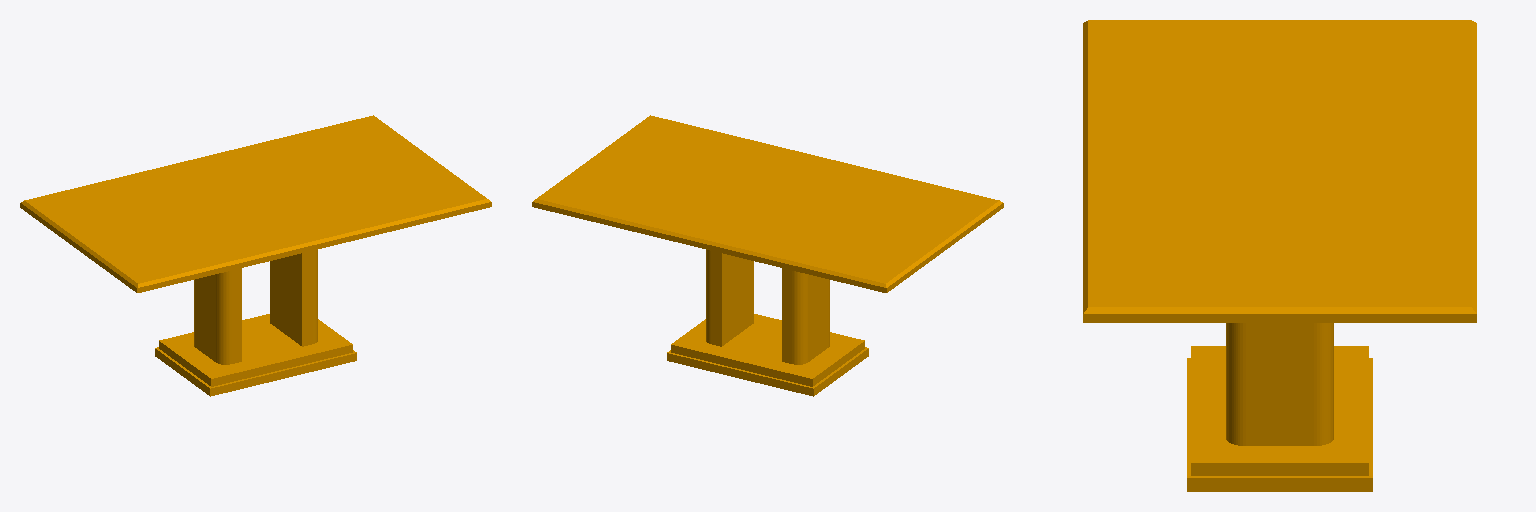
robot.urdf — a25f904dfbc0fb0331b9e762848db625:
<?xml version="1.0" ?>
<robot name="a25f904dfbc0fb0331b9e762848db625">

  <link name="base">

    <inertial>
      <mass value="1"/>
      <inertia ixx="1" ixy="0" ixz="0" iyy="1" iyz="0" izz="1"/>
    </inertial>

    <visual>
      <origin rpy="1.57079 0 0" xyz="0 0 0.14"/>
      <geometry>
        <mesh filename ="models/model_normalized.obj" scale="1 1 1"/>
      </geometry>
    </visual>

    <collision>
      <origin rpy="1.57079 0 0" xyz="0 0 0.14"/>
      <geometry>
        <mesh filename ="models/model_normalized.obj" scale="1 1 1"/>
      </geometry>
    </collision>

  </link>
  
</robot>

--- What the picture shows (computed from the rendered views, not written in the file) ---
Views: 3 orthographic renders of the robot side by side, from view 1: azimuth 30°, elevation 25°; view 2: azimuth 150°, elevation 25°; view 3: azimuth 270°, elevation 25°.
Robot: a25f904dfbc0fb0331b9e762848db625 — 1 links, 0 joints (none); root link base; default pose: every joint at zero.
Visible links, largest first — view 1: base; view 2: base; view 3: base.
Boxes of the visible links, x1,y1,x2,y2 form: base: (20, 115, 491, 396); base: (532, 115, 1003, 396); base: (1083, 20, 1476, 491).
Size in the robot's own frame: 0.8137 by 0.465 by 0.3487 metres.
1 mesh visuals loaded from 1 distinct referenced files (1 OBJ).